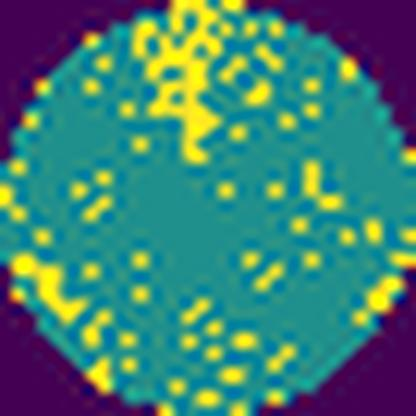Loc: (126, 0, 226, 166), (13, 248, 87, 321)
